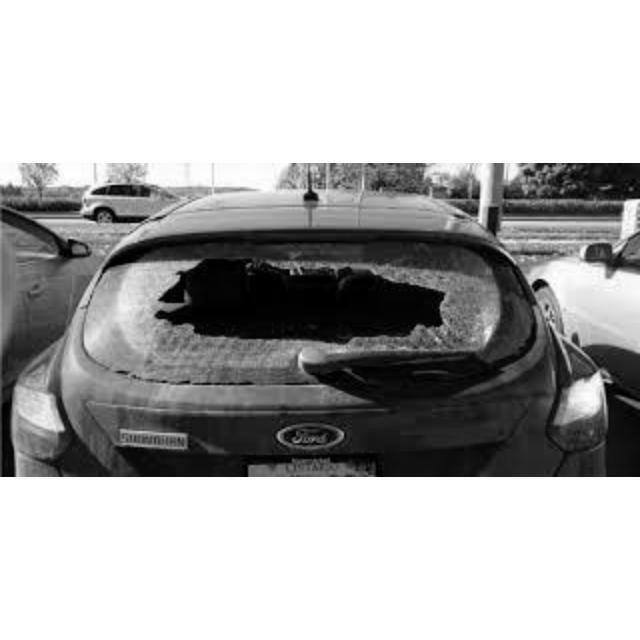Rear-windscreen-Damage: (106, 239, 536, 389)
